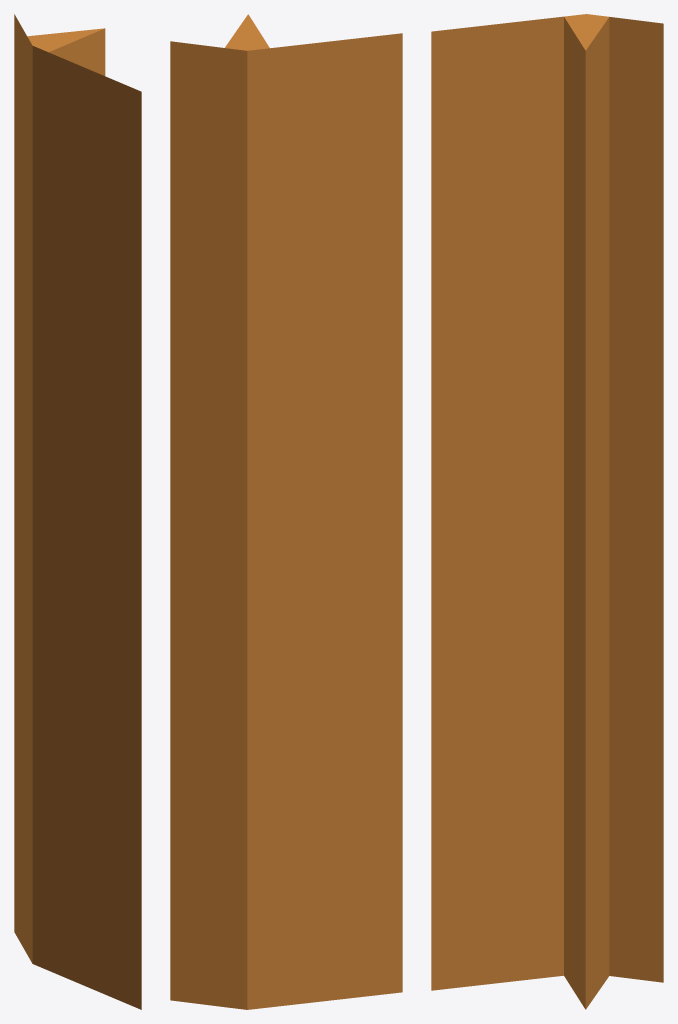
3 views of the same model, side by side, from view 1: azimuth 90°, elevation 25°; view 2: azimuth 150°, elevation 25°; view 3: azimuth 330°, elevation 25° (orthographic). The views are drawn at different scales.
Parts seen in each view (by area): view 1: CORNER-A-28-p2; view 2: CORNER-A-28-p2; view 3: CORNER-A-28-p2.
Boxes of the visible parts, box(x1,y1,x2,y2) form: CORNER-A-28-p2: box(14, 14, 141, 1009); CORNER-A-28-p2: box(170, 14, 402, 1009); CORNER-A-28-p2: box(431, 14, 663, 1009).
Size of the model in its own units: 0.2058 by 1.13 by 0.1424.
